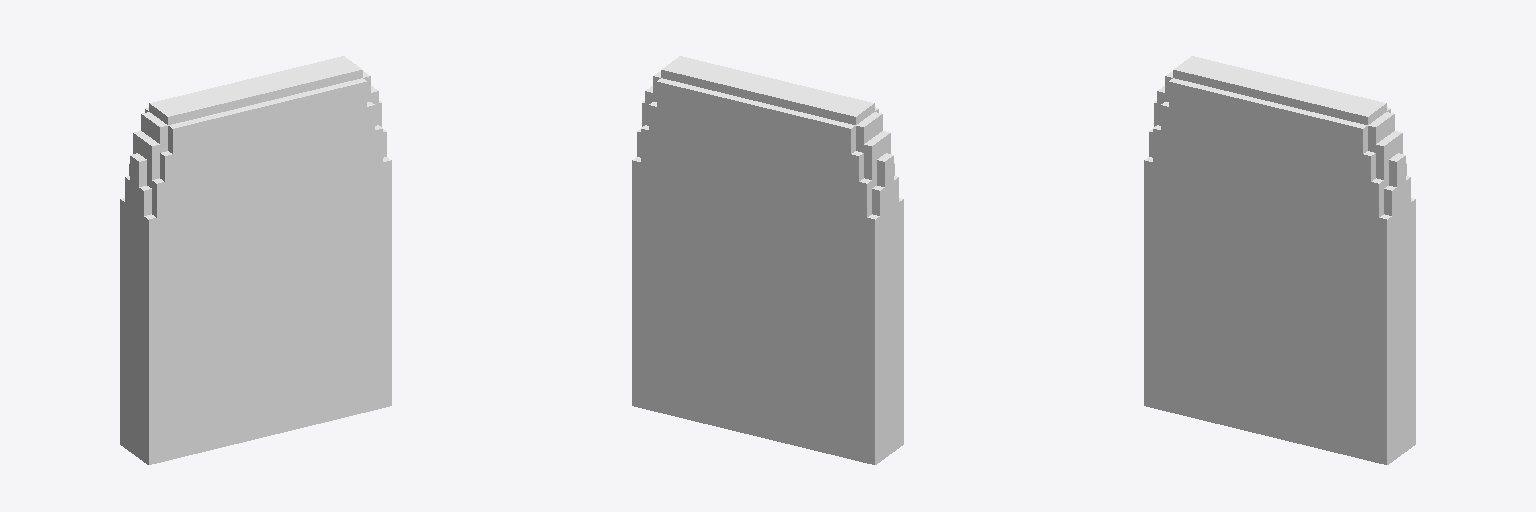
The model's file is tombstone.vox.obj.
3 renders of one model, left to right at view 1: azimuth 30°, elevation 25°; view 2: azimuth 150°, elevation 25°; view 3: azimuth 330°, elevation 25°, orthographic.
Visible parts, largest first — view 1: object 1; view 2: object 1; view 3: object 1.
Boxes of the visible parts, x1=… form: object 1: x1=120, y1=56, x2=391, y2=464; object 1: x1=632, y1=56, x2=903, y2=464; object 1: x1=1144, y1=56, x2=1415, y2=464.
Size of the model in its own units: 3 by 4 by 0.6.